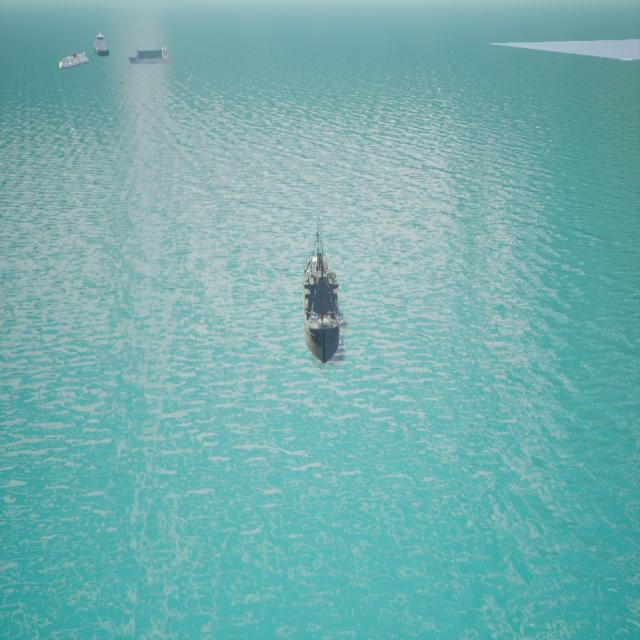fishing ship: (302, 215, 344, 369), (60, 54, 90, 70), (96, 34, 110, 59)
